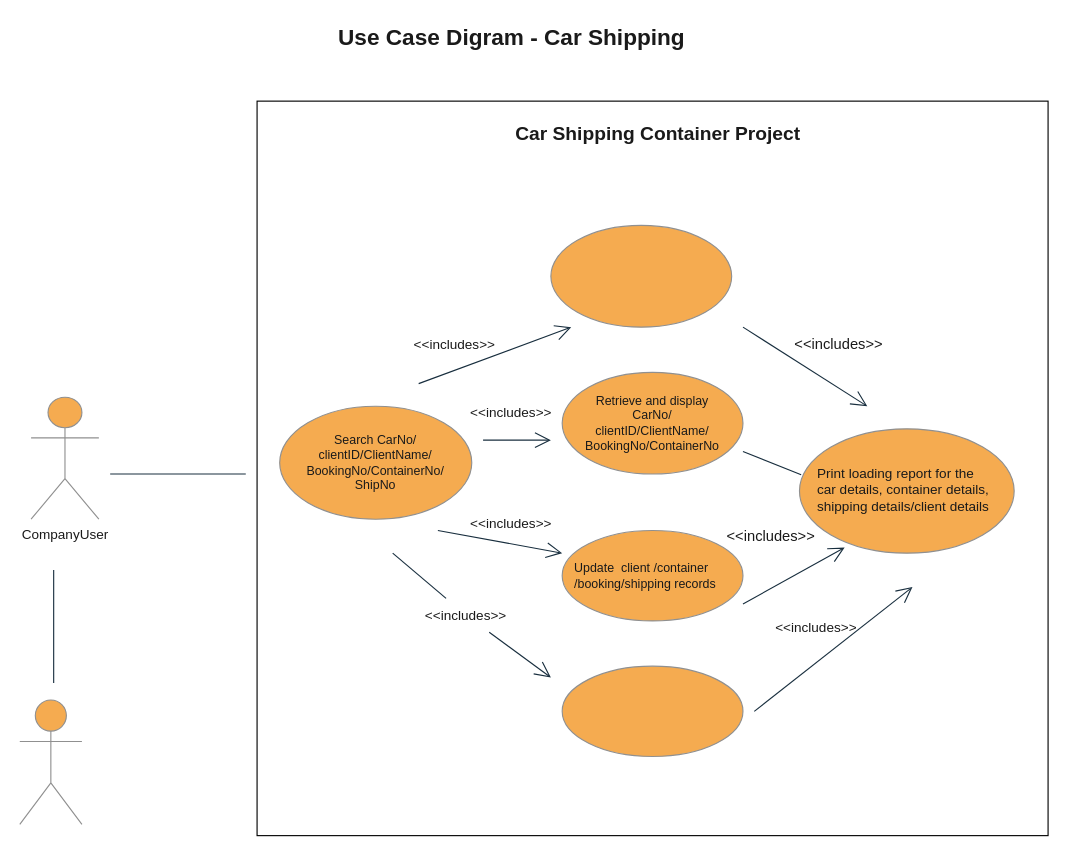
Some shapes in this 1068 by 867 pixel diagram are drawn without their labels. The shapes that lost their labels are listed below. From the top down, each one's centre as x and y in pixels, then its label:
the point at 641,275: Add new CarNo/ clientID/ClientName/ BookingNo/ContainerNo/ ShipNo
the point at 652,711: Produce a formatted summary report of the client booking
the point at 50,761: Client
